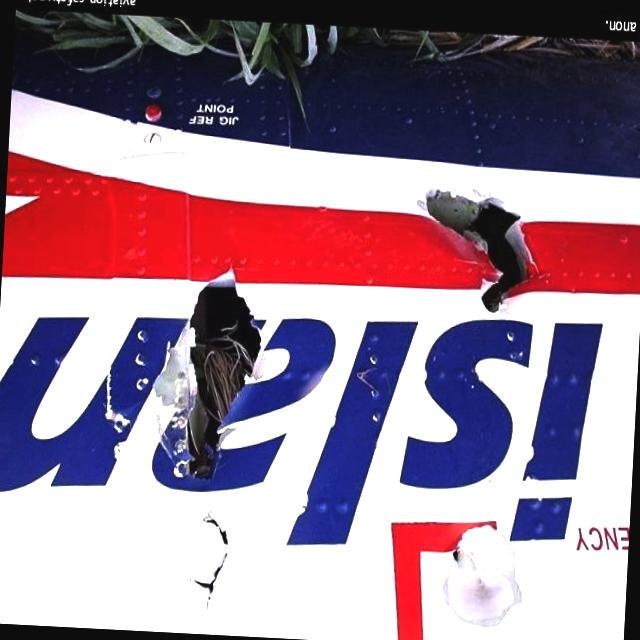crack: (168, 262, 266, 490), (410, 180, 540, 316), (178, 501, 235, 622), (446, 540, 486, 587)
